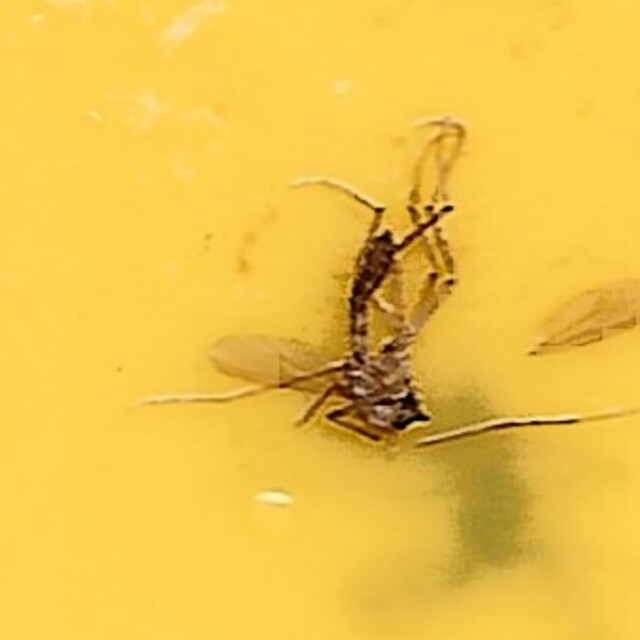Nematocera: (189, 192, 451, 448)
